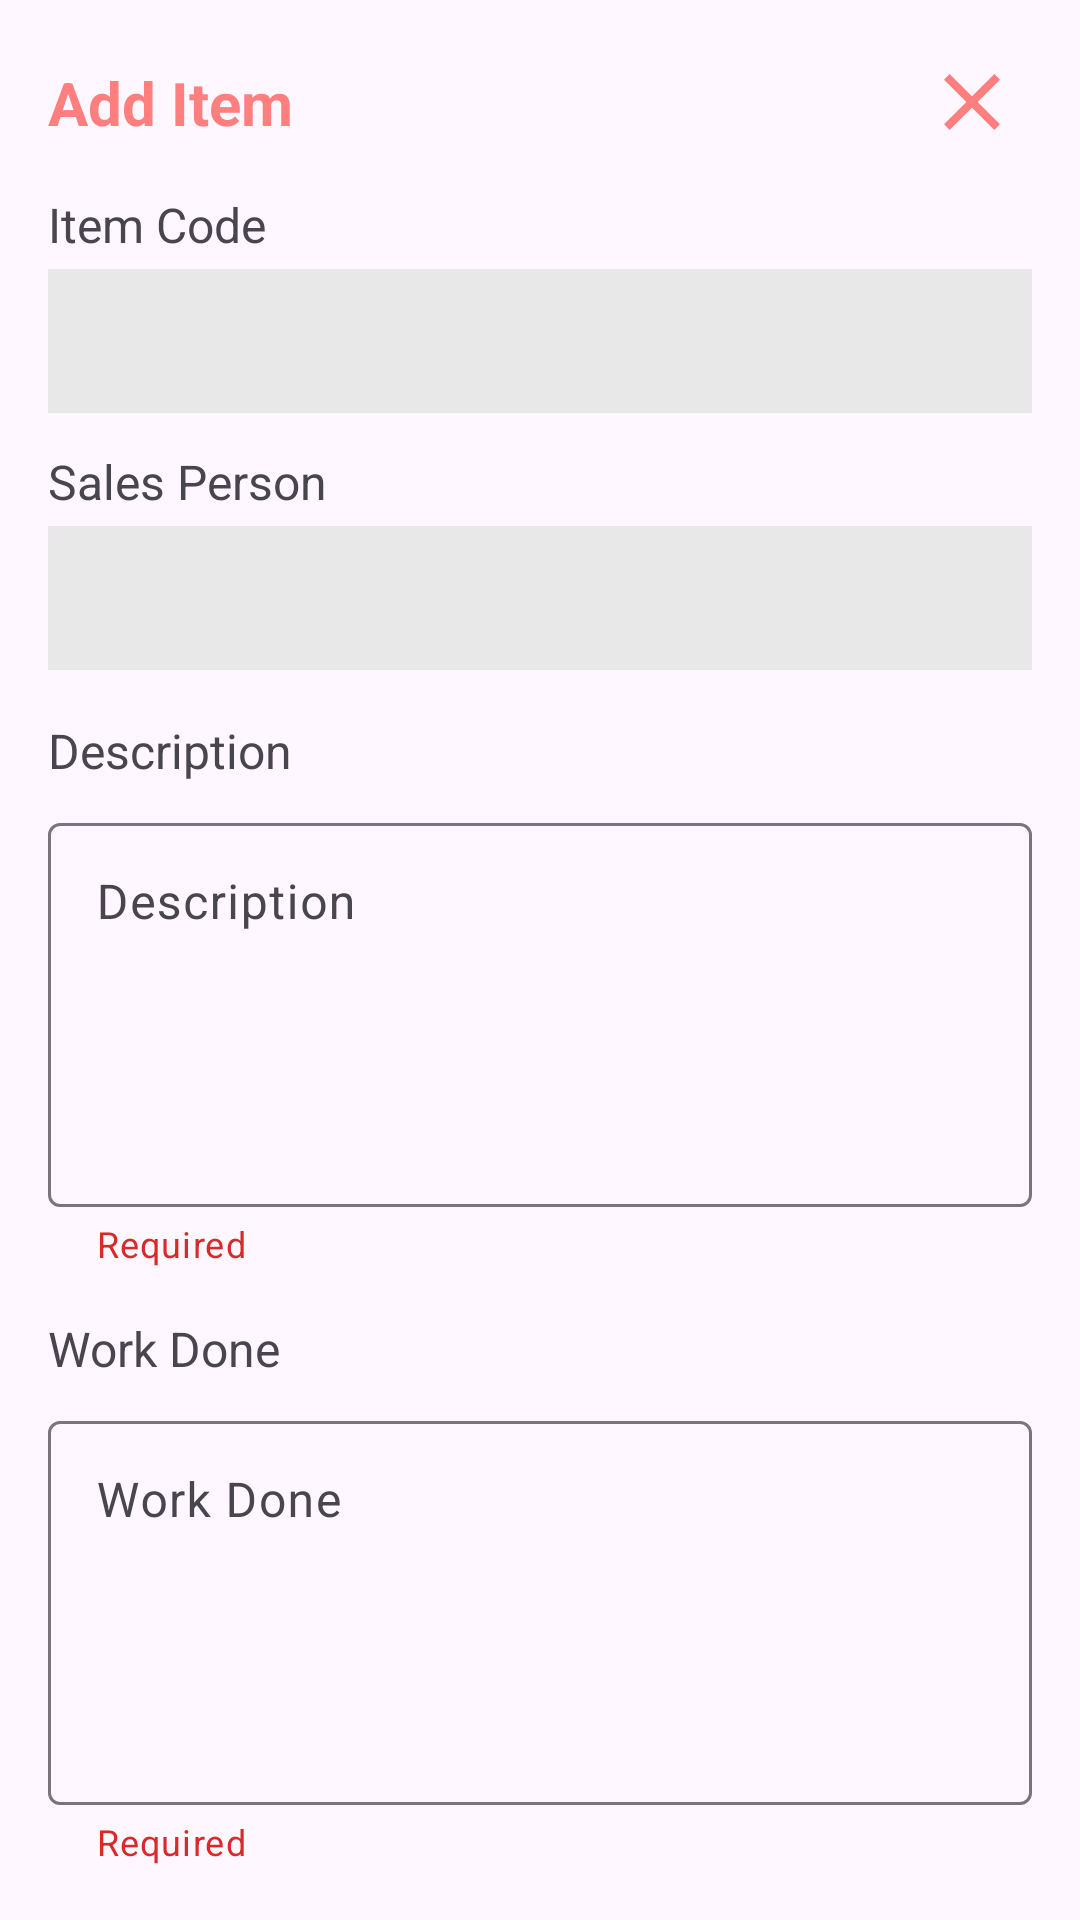

Point at icon controls on the screen. Image size 1080 x 1920, points as (x=x, y=y).
clear: (x=972, y=102)
